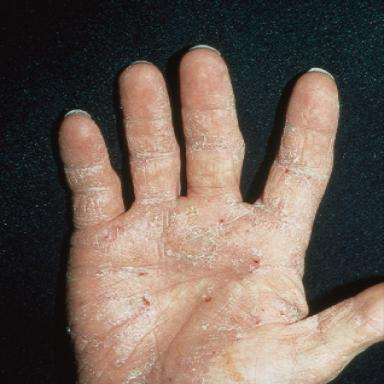eczema: (60, 48, 382, 384)
